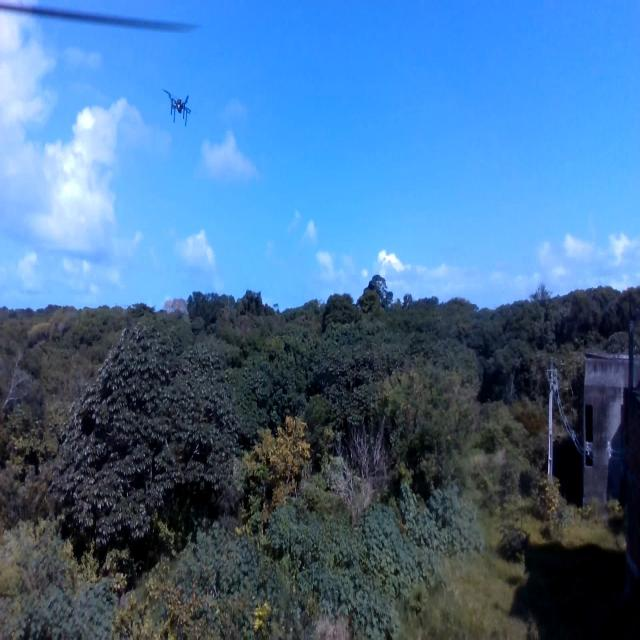-uav-: (160, 73, 194, 136)
